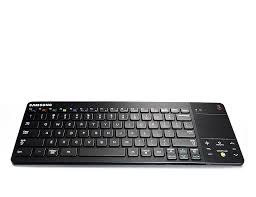keyboard: (10, 95, 256, 172)
